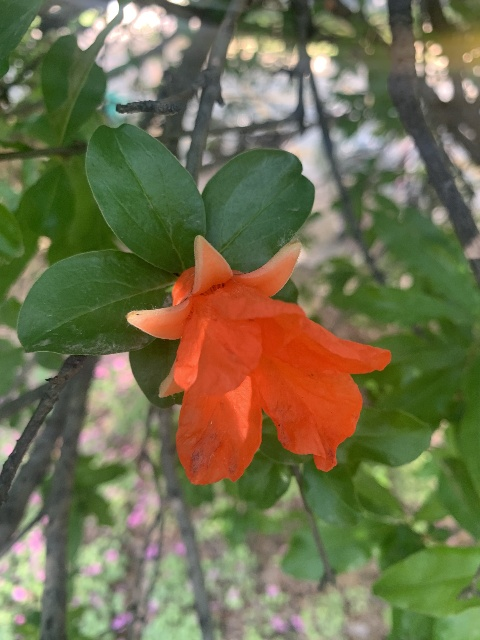flower: (125, 235, 390, 486)
